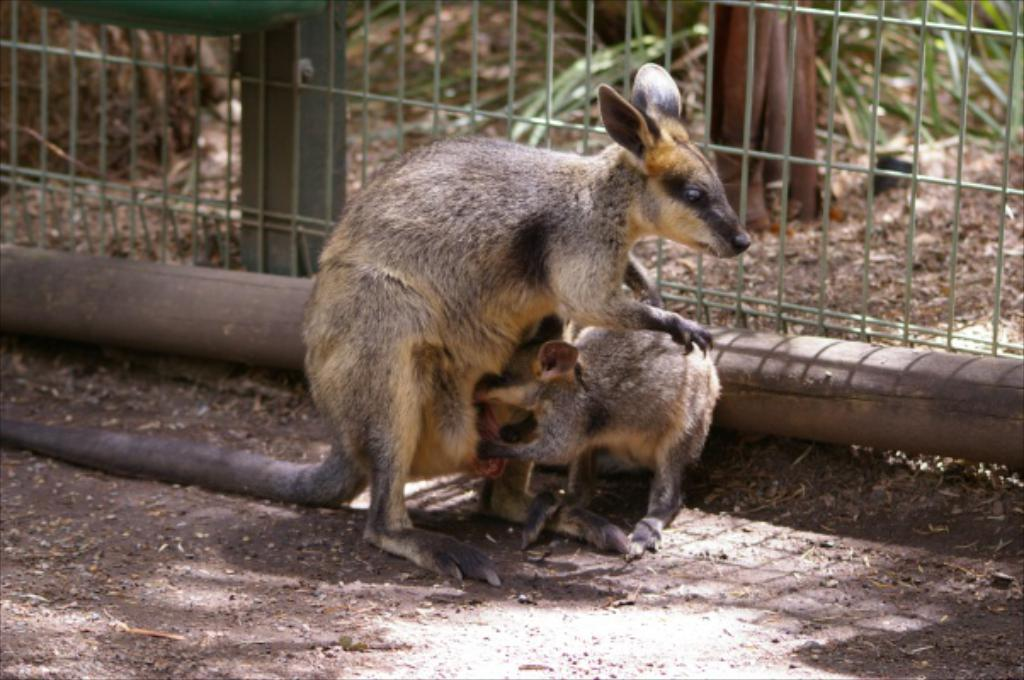kangaroo: (0, 56, 755, 597), (468, 310, 732, 566)
